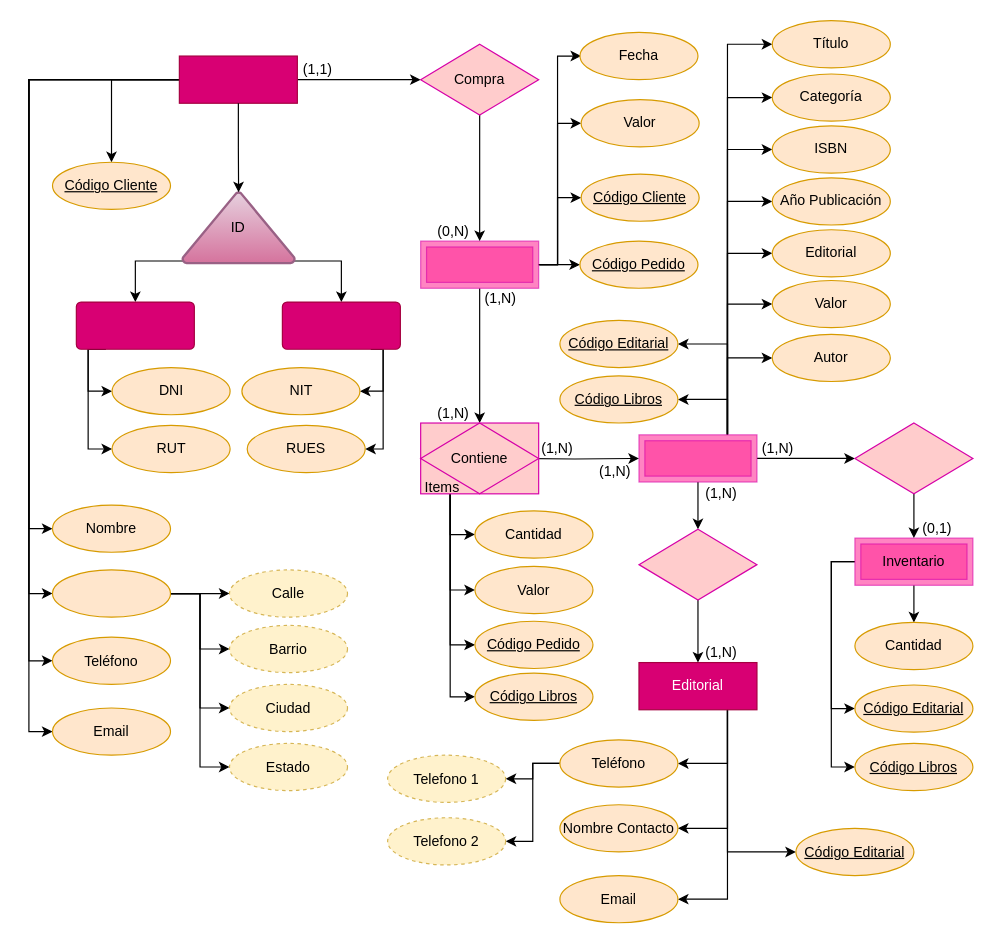
This 994x944 diagram has some shape labels left out. Each missing label, with the centre of its shape:
"Cliente" goes at point 237,79.
"Direcció" goes at point 111,593.
"Existe" goes at point 913,458.
"Libros" goes at point 697,458.
"Pedido de Compra" goes at point 479,264.
"Persona Juridica" goes at point 340,325.
"Persona Natural" goes at point 134,325.
"Pertenece" goes at point 697,564.
